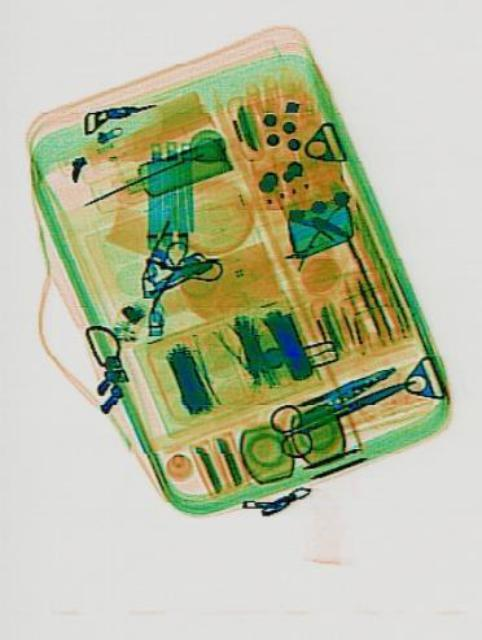Scissors: (265, 353, 420, 462)
